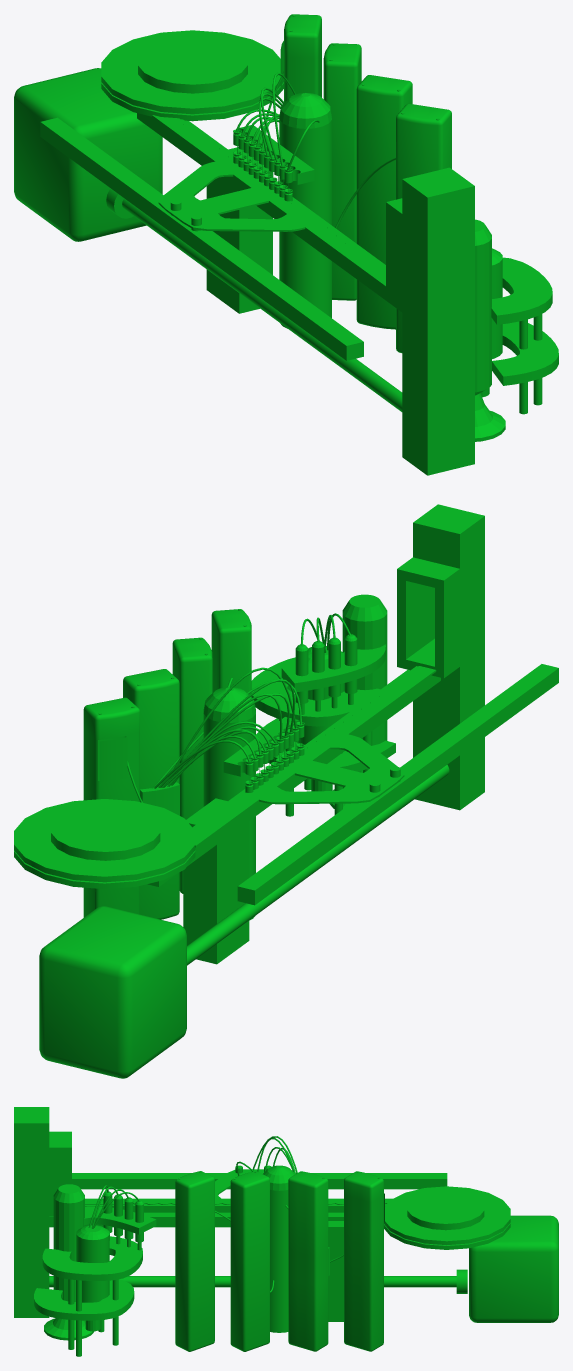
Rendered from Vaccine_Maker.FBX.
3 renders of one model, top to bottom at view 1: azimuth 30°, elevation 25°; view 2: azimuth 150°, elevation 25°; view 3: azimuth 270°, elevation 25°, orthographic. The views are drawn at different scales.
Visible parts, largest first — view 1: Vaccine_Maker; view 2: Vaccine_Maker; view 3: Vaccine_Maker.
Boxes of the visible parts, left/top/right/bottom form: Vaccine_Maker: left=14, top=14, right=558, bottom=475; Vaccine_Maker: left=14, top=504, right=558, bottom=1078; Vaccine_Maker: left=14, top=1107, right=558, bottom=1356.
Size of the model in its own units: 169 by 183 by 462.
